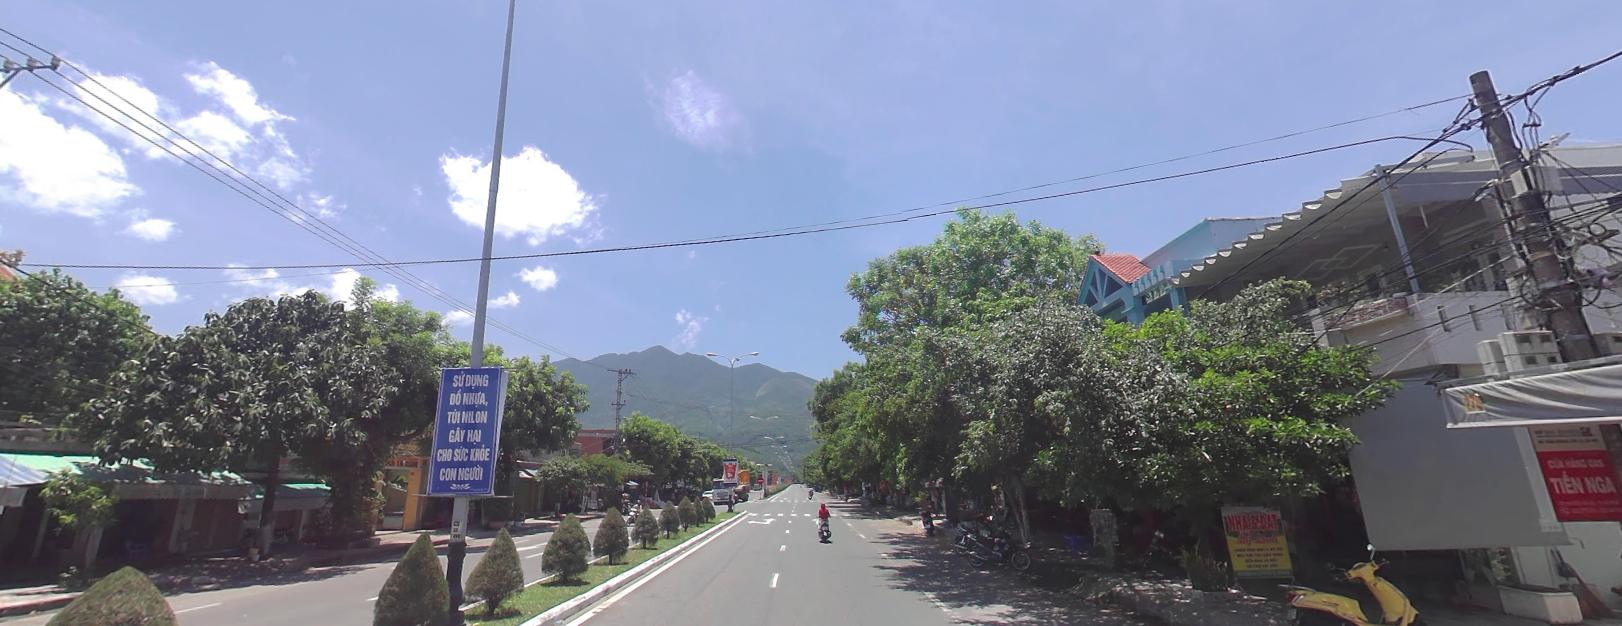Cam nguoc chieu: (756, 475, 763, 482)
